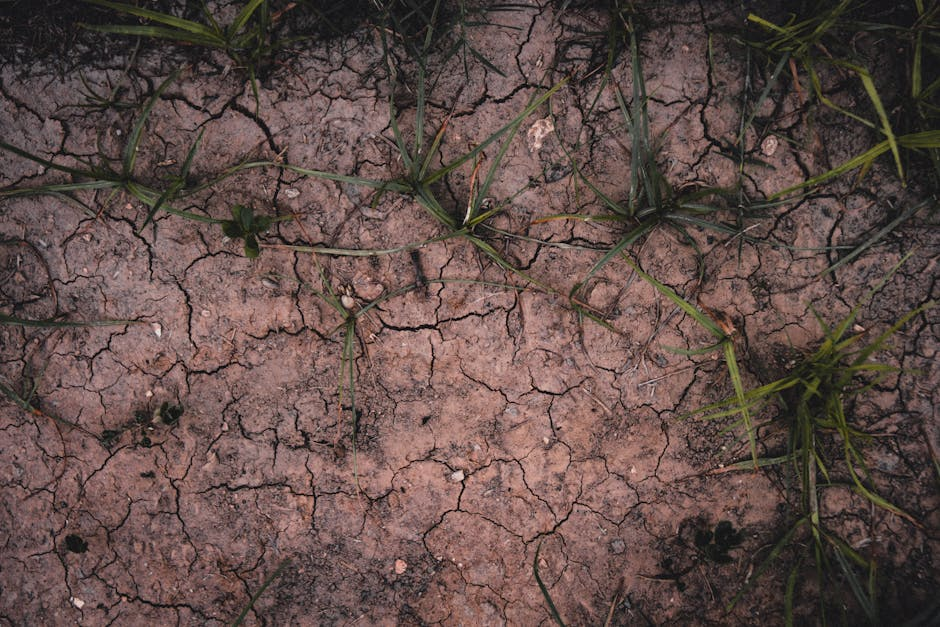细微裂纹: (310, 0, 430, 602)
